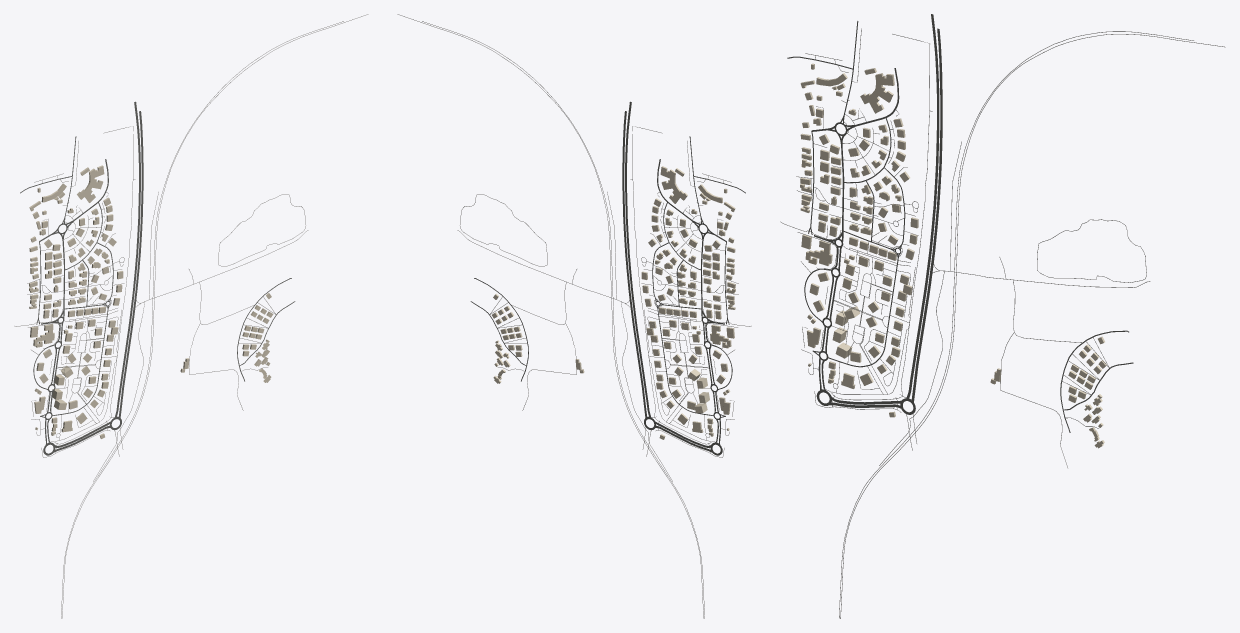
The model's file is historic-palestine-06_25_3481_3192.glb.
3 renders of one model, left to right at view 1: azimuth 30°, elevation 25°; view 2: azimuth 150°, elevation 25°; view 3: azimuth 330°, elevation 25°, orthographic. The views are drawn at different scales.
Parts seen in each view (by area): view 1: Road 423.001, Road 423, Road מסילת השפלה.001, Road מסילת השפלה; view 2: Road 423.001, Road 423, Road מסילת השפלה.001, Road מסילת השפלה; view 3: Road 423.001, Road 423, Road מסילת השפלה.001, Road מסילת השפלה, Building_.083.
Part boxes in pixels (x1,y1,x2,y2): Road 423.001: (114, 101, 140, 418); Road 423: (119, 111, 143, 417); Road מסילת השפלה.001: (62, 14, 368, 618); Road מסילת השפלה: (61, 21, 343, 618); Road 423.001: (625, 101, 651, 418); Road 423: (622, 111, 646, 417); Road מסילת השפלה.001: (397, 14, 703, 618); Road מסילת השפלה: (422, 21, 704, 618); Road 423.001: (906, 14, 939, 399); Road 423: (911, 28, 942, 402); Road מסילת השפלה.001: (840, 34, 1225, 618); Road מסילת השפלה: (839, 31, 1193, 618); Building_.083: (860, 73, 894, 113).
Size of the model in its own units: 1418 by 2027 by 32.2.
